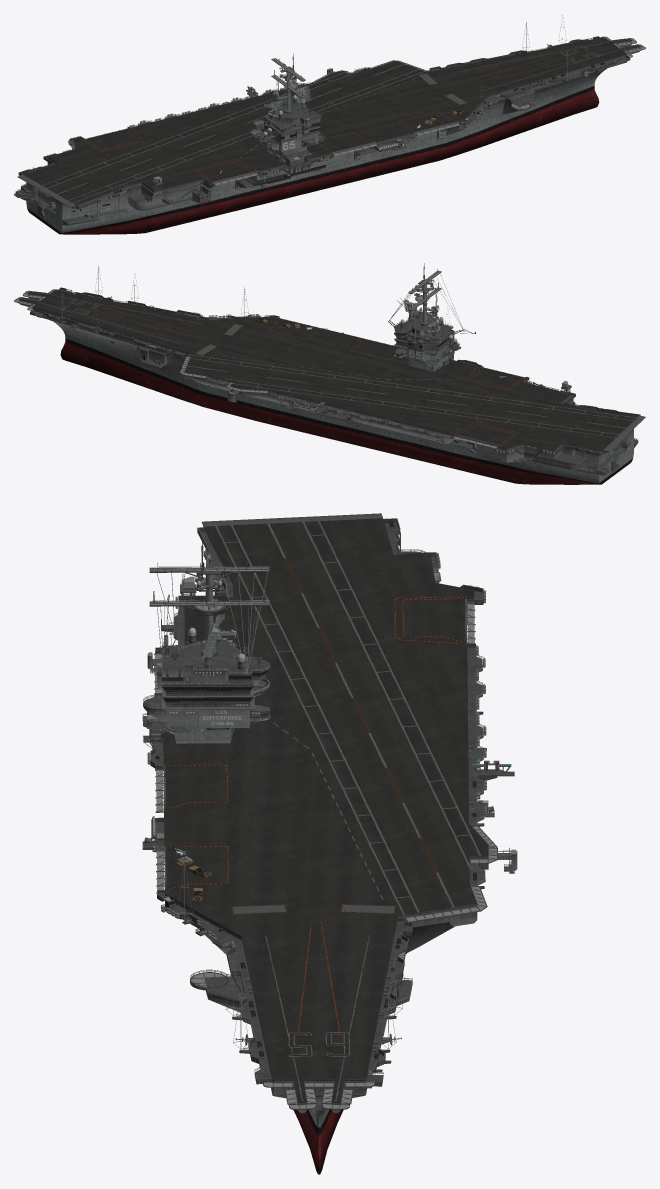
Rendered from uss_enterprise_cvn-65_aircraft_carrier.glb.
3 views of the same model, one above another, from view 1: azimuth 30°, elevation 25°; view 2: azimuth 150°, elevation 25°; view 3: azimuth 270°, elevation 25° (orthographic). The views are drawn at different scales.
Parts seen in each view (by area): view 1: Object_4, Object_2, Object_7, Object_14, Object_13, Object_8, Object_12, Object_18; view 2: Object_4, Object_2, Object_7, Object_13, Object_14, Object_8, Object_12, Object_18; view 3: Object_4, Object_7, Object_2, Object_14, Object_13, Object_12, Object_8, Object_18.
Part boxes in pixels (x1,y1,x2,y2): Object_4: [23, 37, 640, 204]; Object_2: [14, 36, 644, 234]; Object_7: [15, 36, 645, 225]; Object_14: [14, 37, 645, 223]; Object_13: [42, 46, 599, 203]; Object_8: [81, 39, 638, 182]; Object_12: [23, 41, 604, 217]; Object_18: [130, 15, 603, 179]; Object_4: [19, 290, 638, 450]; Object_2: [14, 271, 640, 484]; Object_7: [14, 263, 645, 473]; Object_13: [60, 294, 636, 437]; Object_14: [14, 271, 638, 473]; Object_8: [20, 292, 586, 447]; Object_12: [53, 294, 629, 454]; Object_18: [58, 266, 568, 435]; Object_4: [149, 518, 488, 1101]; Object_7: [142, 513, 514, 1109]; Object_2: [142, 518, 517, 1174]; Object_14: [142, 549, 514, 1108]; Object_13: [206, 521, 481, 1056]; Object_12: [144, 520, 511, 1058]; Object_8: [162, 558, 474, 1101]; Object_18: [156, 555, 485, 1050].
Size of the model in its own units: 477 by 117 by 128.
Materials: 11 (10 with a texture image).
